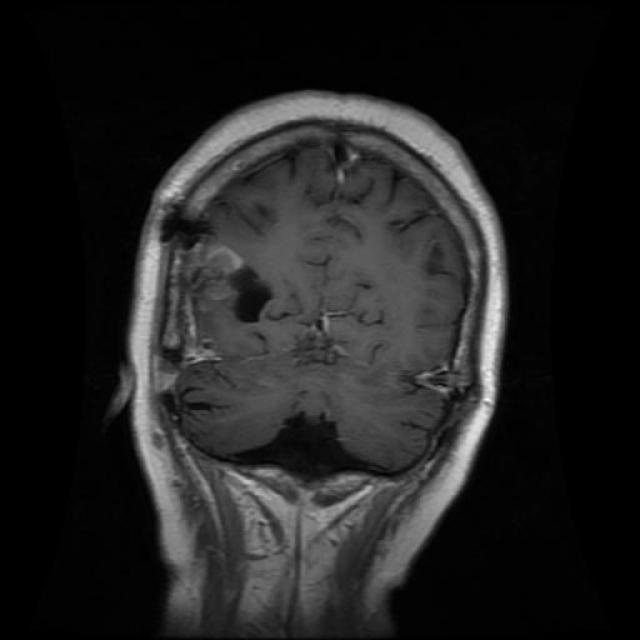glioma: (213, 183, 414, 367)
